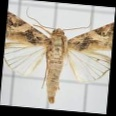Spodoptera litura: (4, 9, 111, 105)
